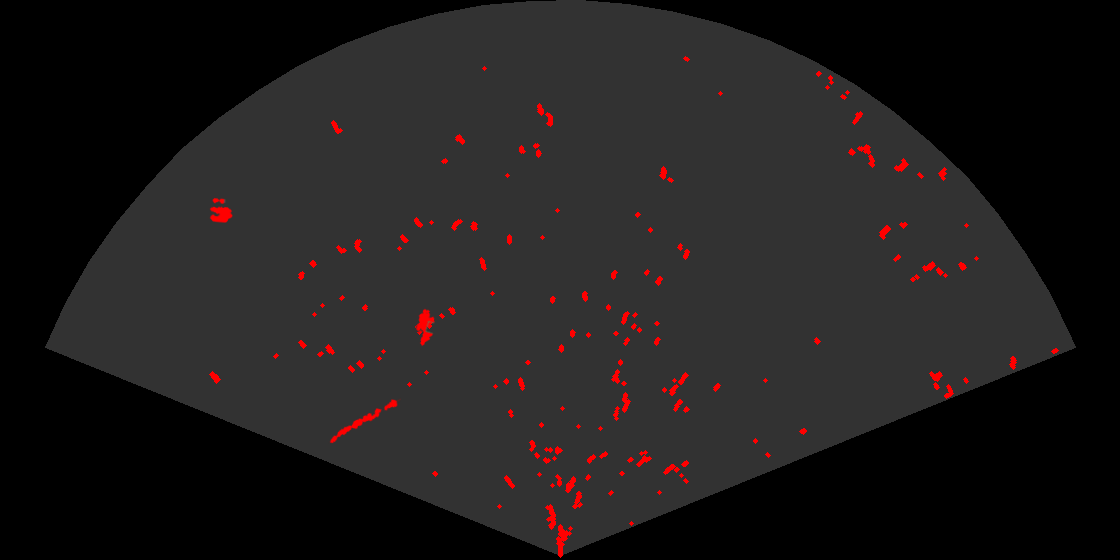AUV: (415, 307, 436, 348)
ball: (208, 196, 234, 224)
chain: (328, 397, 401, 445)
